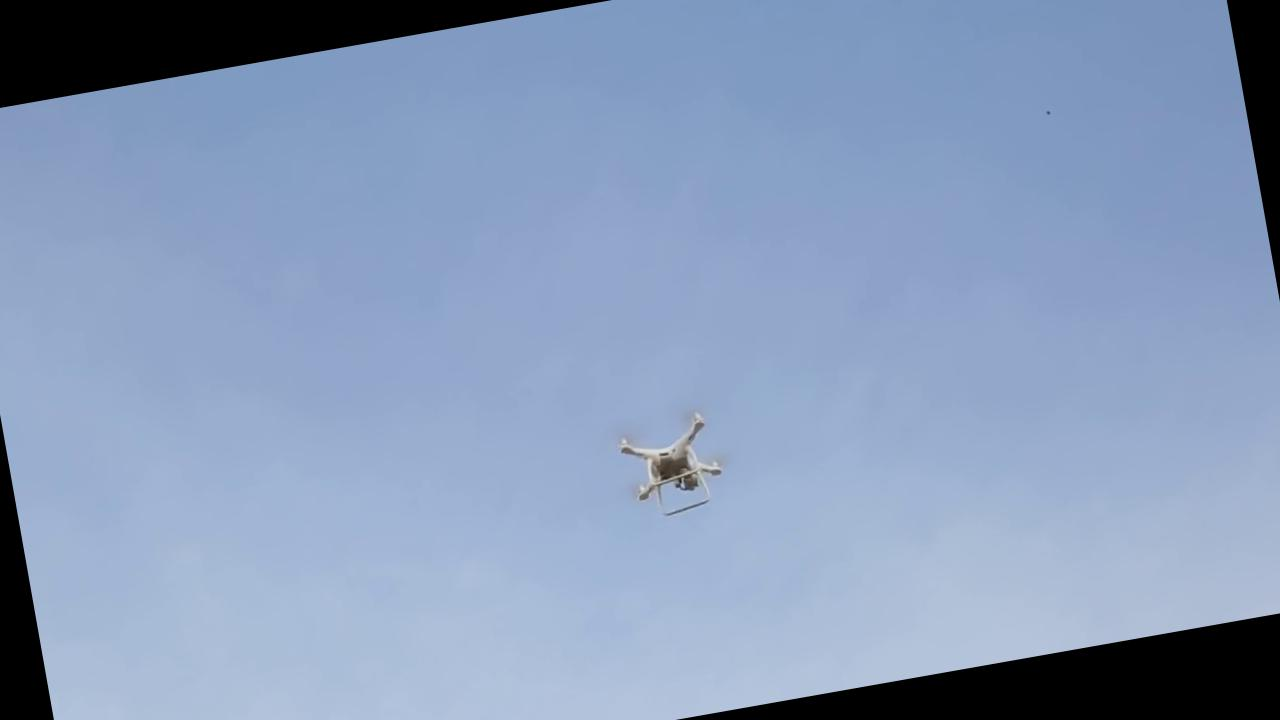drone: (602, 402, 740, 516)
